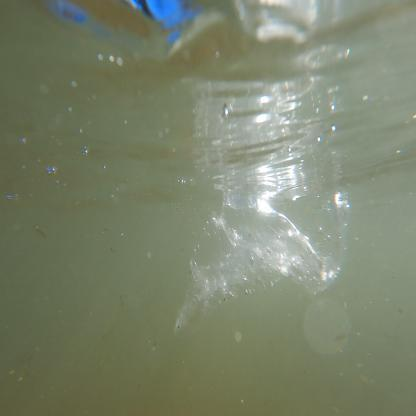Rác: (184, 164, 359, 327)
